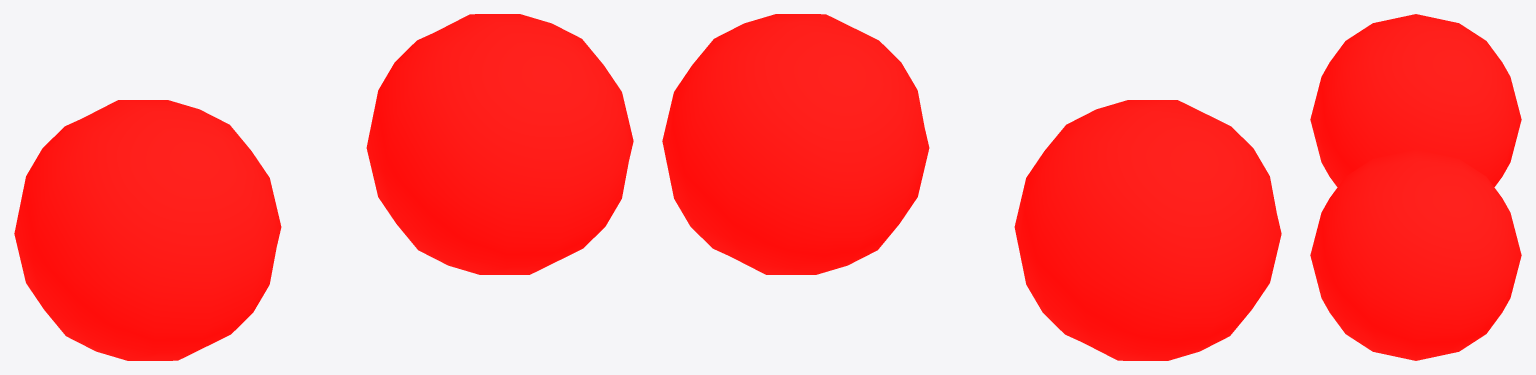
The model's file is Wiwi.fbx.
3 renders of one model, left to right at view 1: azimuth 30°, elevation 25°; view 2: azimuth 150°, elevation 25°; view 3: azimuth 270°, elevation 25°, orthographic. The views are drawn at different scales.
Parts seen in each view (by area): view 1: Wiwi; view 2: Wiwi; view 3: Wiwi.
Part boxes in pixels (x1,y1,x2,y2): Wiwi: (14, 14, 633, 360); Wiwi: (662, 14, 1281, 360); Wiwi: (1310, 14, 1521, 360).
Size of the model in its own units: 142 by 56.49 by 56.49.
